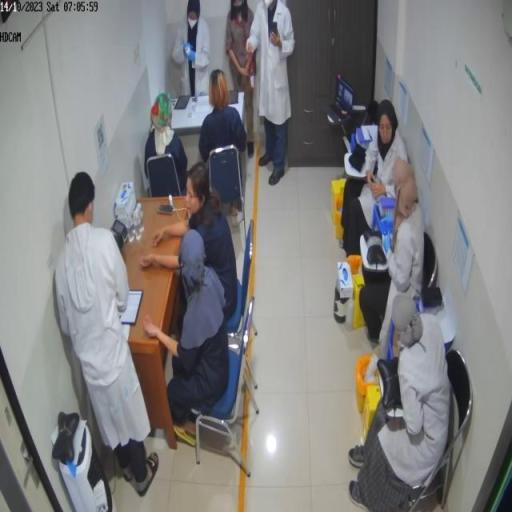person: (55, 171, 163, 499), (349, 296, 451, 509), (144, 231, 231, 433), (141, 162, 240, 326), (359, 168, 426, 351), (343, 100, 410, 257), (246, 1, 297, 187), (199, 69, 249, 199), (227, 2, 257, 157), (145, 93, 189, 195), (172, 1, 212, 98)
